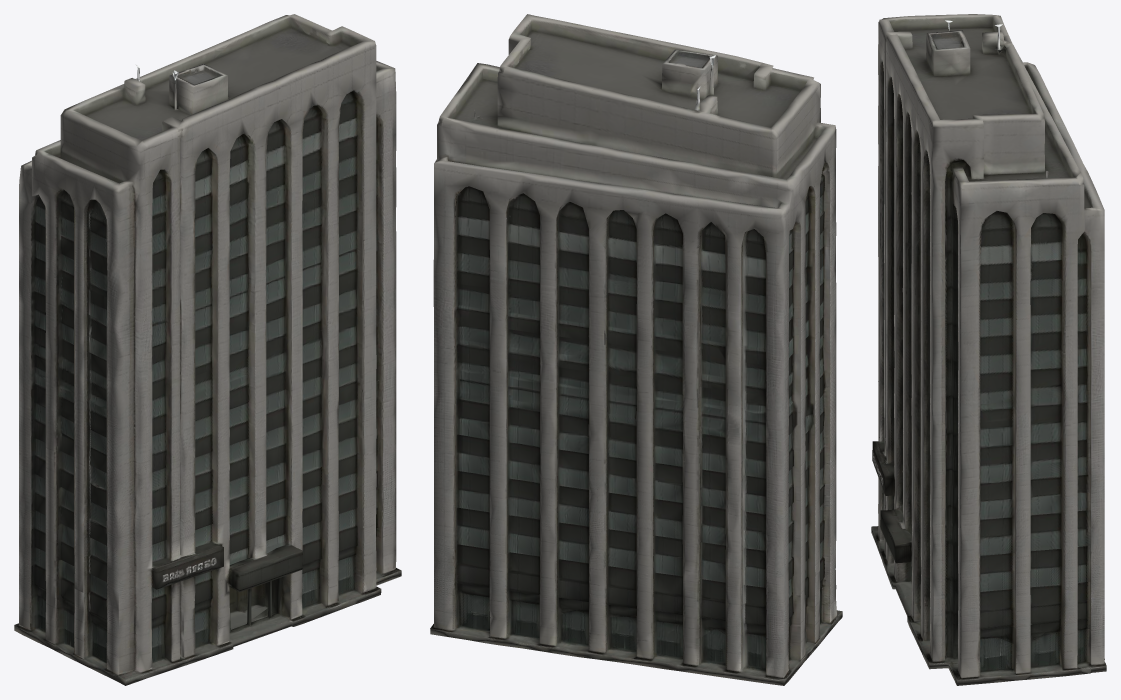
File: modern_office_building_3d_model.fbx
3 views of the same model, side by side, from view 1: azimuth 30°, elevation 25°; view 2: azimuth 150°, elevation 25°; view 3: azimuth 270°, elevation 25° (orthographic). The views are drawn at different scales.
Visible parts, largest first — view 1: tripo_node_551210d2; view 2: tripo_node_551210d2; view 3: tripo_node_551210d2.
Boxes of the visible parts, x1,y1,x2,y2 form: tripo_node_551210d2: [14, 14, 401, 685]; tripo_node_551210d2: [430, 14, 842, 685]; tripo_node_551210d2: [871, 14, 1106, 685].
Bounding box in the file's own units: 0.6283 × 0.9766 × 0.3759.
